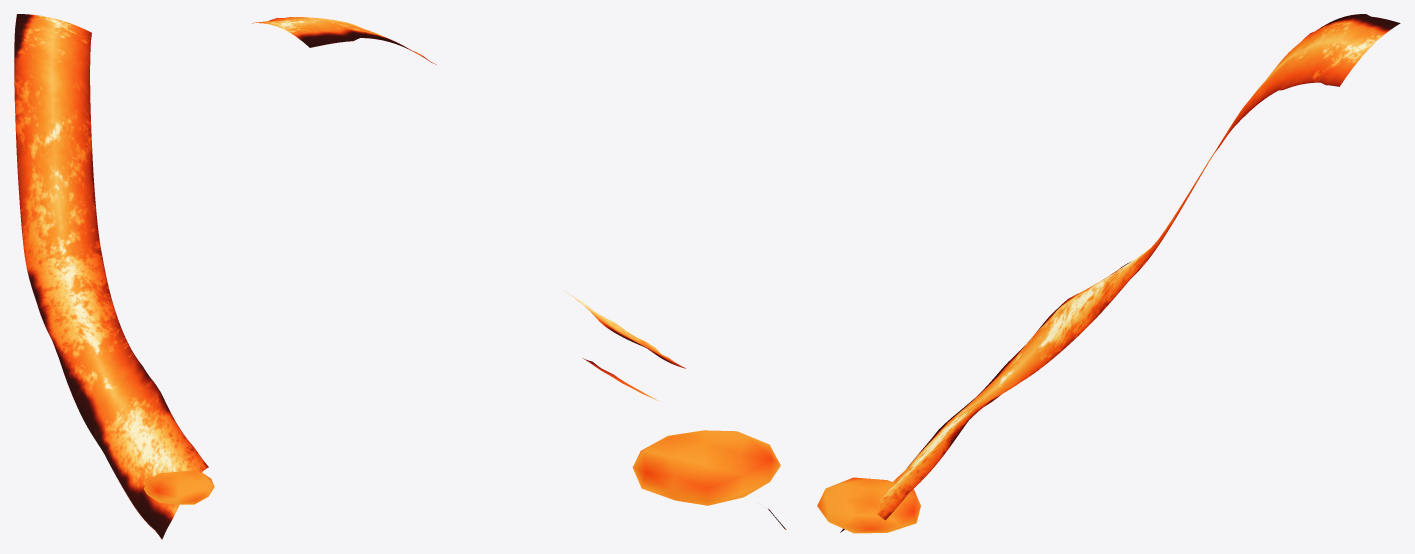
Rendered from flow_2_4.glb.
3 renders of one model, left to right at view 1: azimuth 30°, elevation 25°; view 2: azimuth 150°, elevation 25°; view 3: azimuth 270°, elevation 25°, orthographic. The views are drawn at different scales.
Size of the model in its own units: 4.71 by 12.75 by 12.25.
